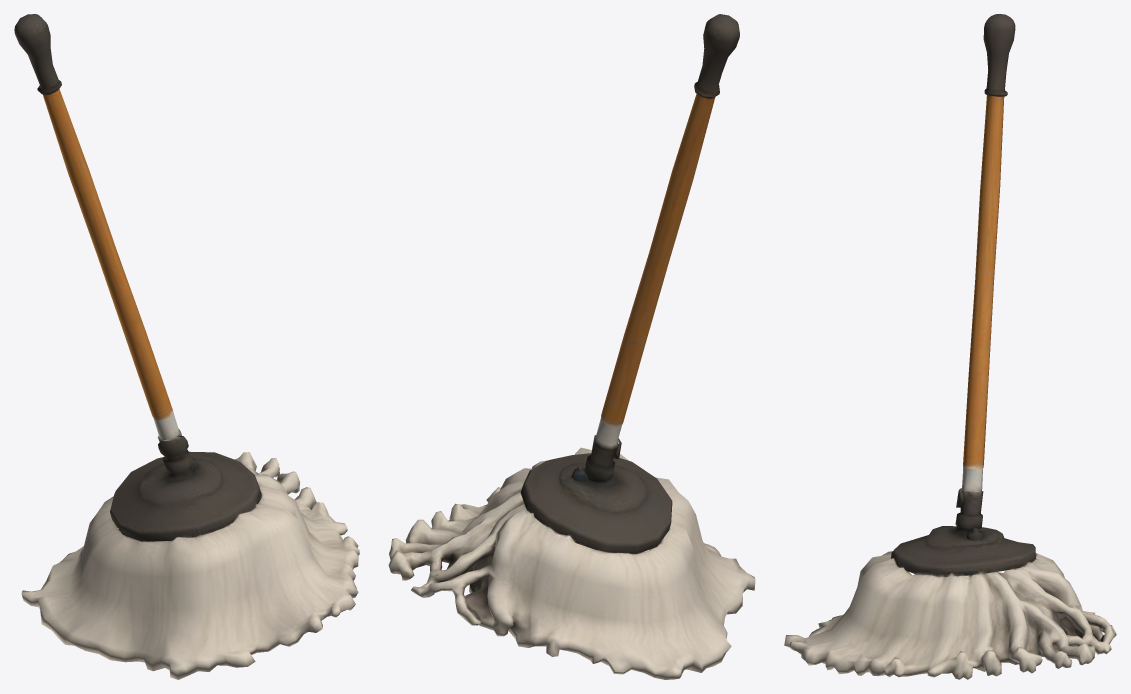
Rendered from mop.glb.
3 views of the same model, side by side, from view 1: azimuth 30°, elevation 25°; view 2: azimuth 150°, elevation 25°; view 3: azimuth 270°, elevation 25° (orthographic). The views are drawn at different scales.
Visible parts, largest first — view 1: tripo_node_2d201b88-5b26-4715-9fd1-5838540fca47; view 2: tripo_node_2d201b88-5b26-4715-9fd1-5838540fca47; view 3: tripo_node_2d201b88-5b26-4715-9fd1-5838540fca47.
Boxes of the visible parts, x1,y1,x2,y2 form: tripo_node_2d201b88-5b26-4715-9fd1-5838540fca47: [14, 14, 359, 679]; tripo_node_2d201b88-5b26-4715-9fd1-5838540fca47: [388, 14, 755, 679]; tripo_node_2d201b88-5b26-4715-9fd1-5838540fca47: [784, 14, 1116, 679].
Size of the model in its own units: 0.4956 by 0.9995 by 0.5063.
1 material, 1 textured.
